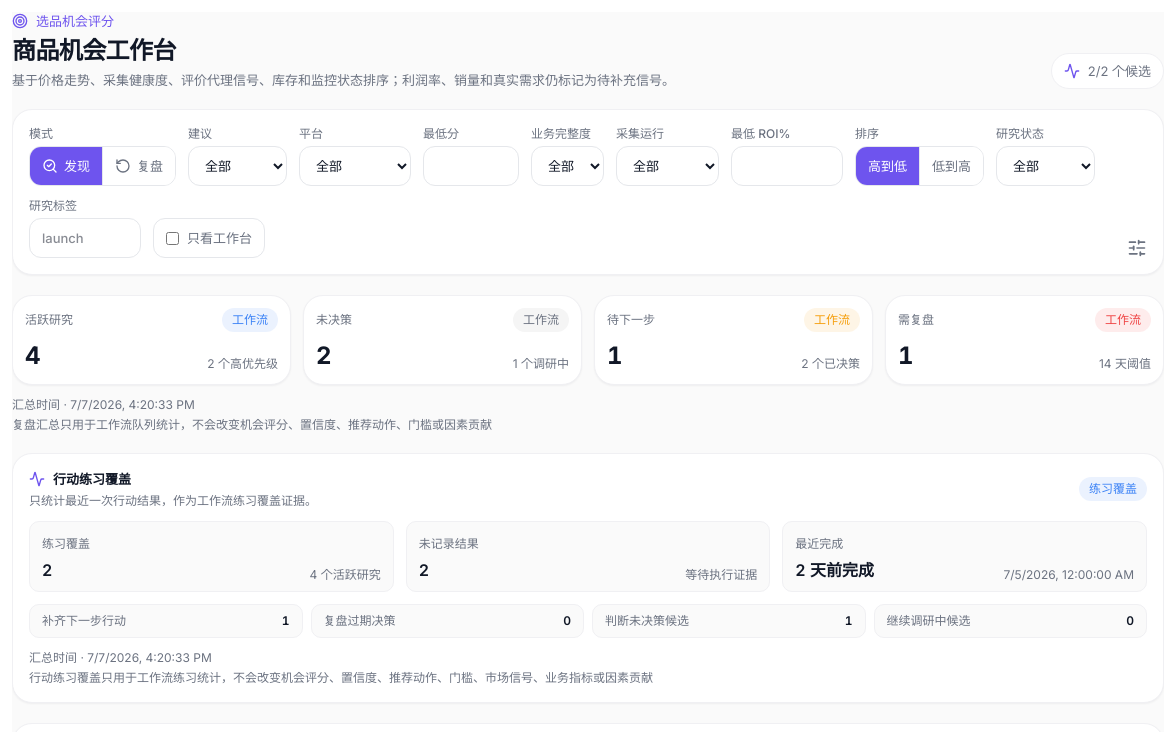
Opportunities page › applies existing review filters from review summary cards
The width and height of the screenshot is (1176, 732).
Click the button with aria-label "筛选复盘汇总：未决策".
click(334, 320)  # box [303, 295, 582, 385]
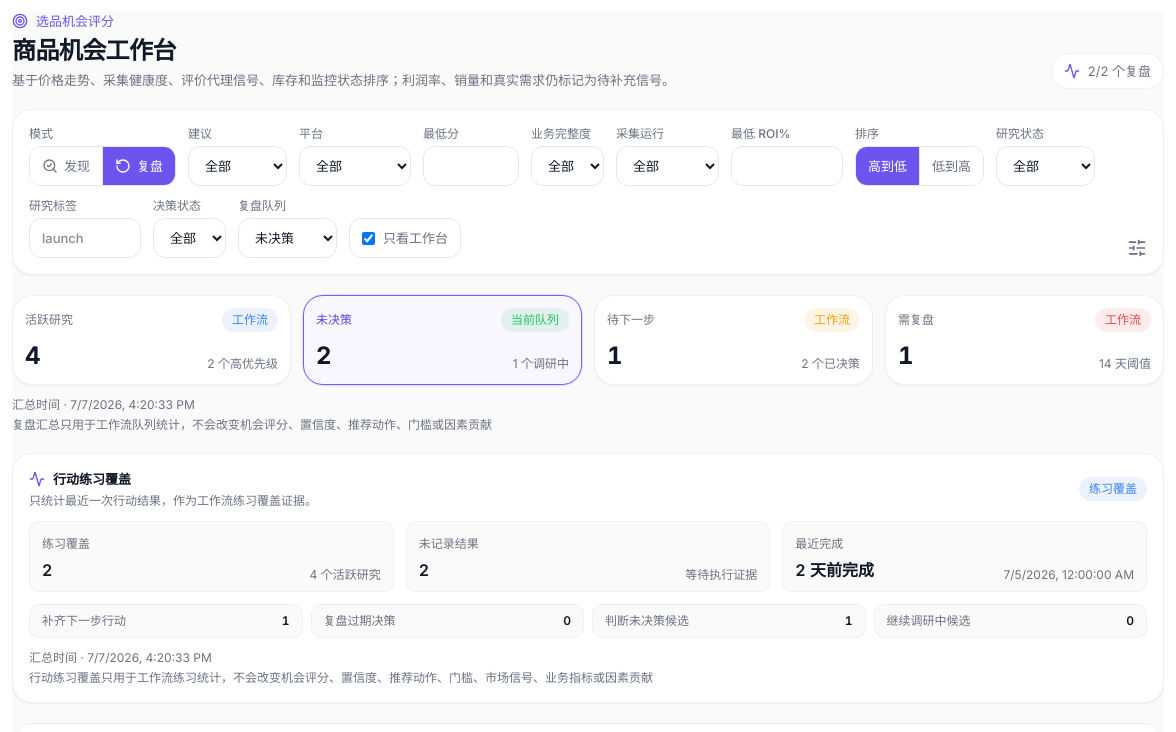
Result: the dropdown named "决策复盘筛选" shows "未决策" at [238, 218, 337, 258]
Result: the text "当前队列" is shown at [501, 308, 569, 332]
Click the button with aria-label "筛选复盘汇总：待下一步".
click(631, 320)  # box [594, 295, 873, 385]
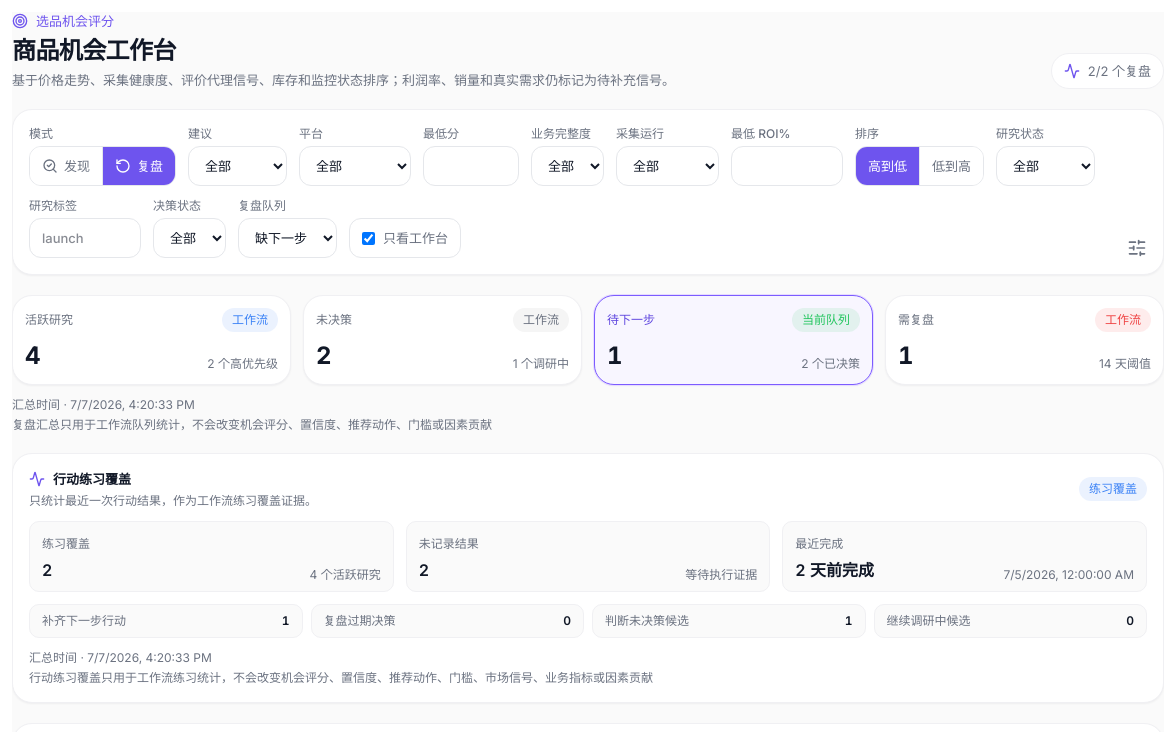
Result: the dropdown named "决策复盘筛选" shows "缺下一步" at [238, 218, 337, 258]
Click the button with aria-label "筛选复盘汇总：需复盘".
click(916, 320)  # box [885, 295, 1164, 385]
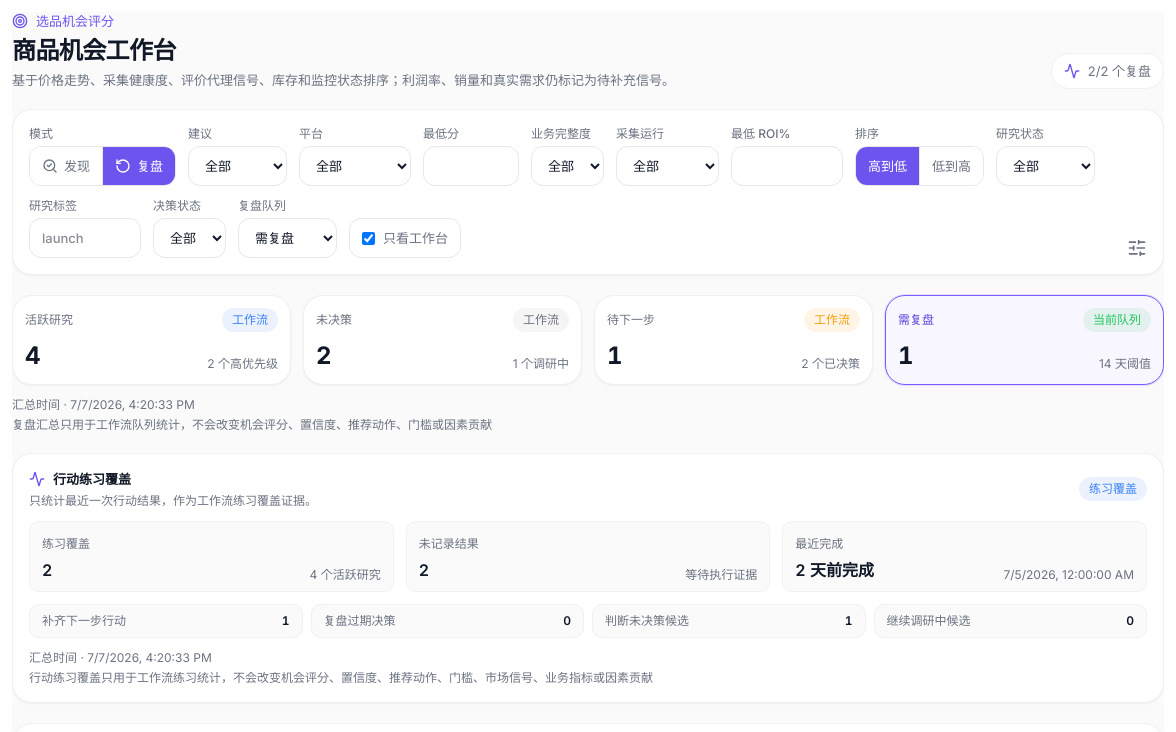
Result: the dropdown named "决策复盘筛选" shows "需复盘" at [238, 218, 337, 258]
Click the button with aria-label "筛选复盘汇总：活跃研究".
click(49, 320)  # box [12, 295, 291, 385]
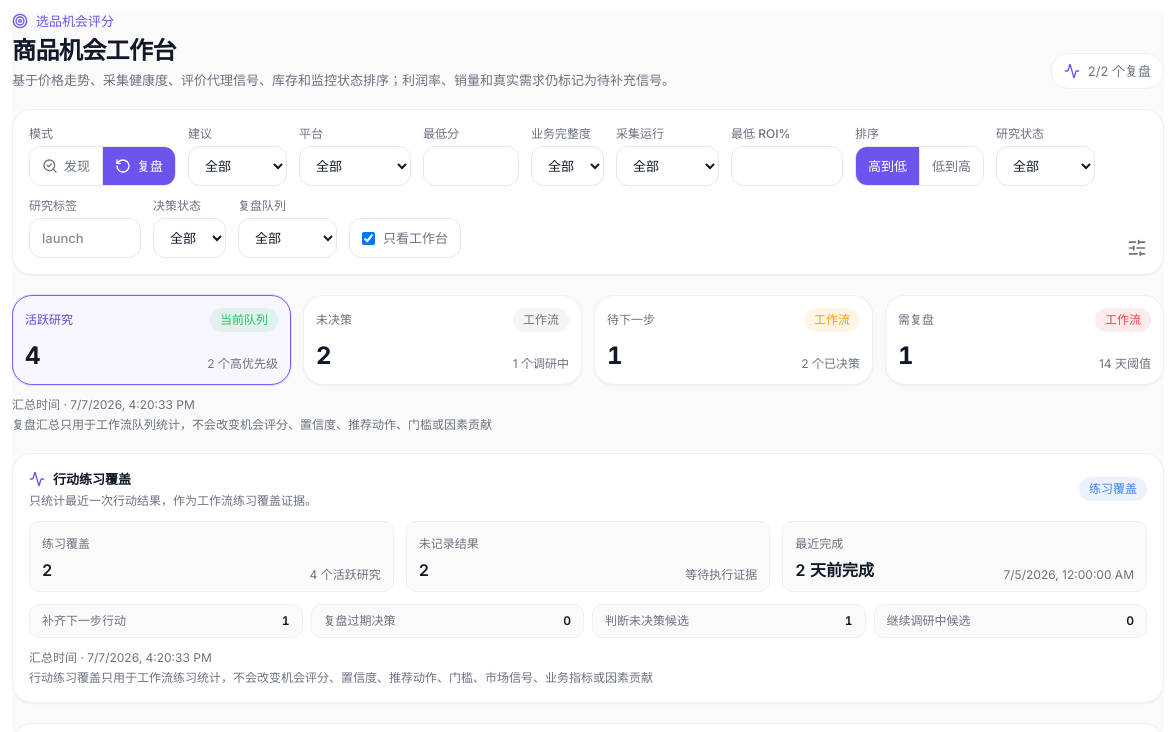
Result: the dropdown named "决策复盘筛选" shows "全部" at [238, 218, 337, 258]
